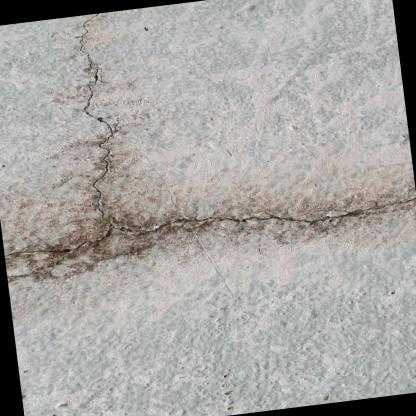crack: (4, 12, 416, 256)
